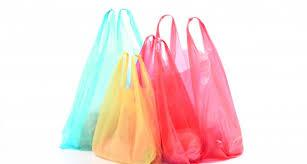Plastic bag: (56, 1, 155, 164), (155, 9, 242, 164)
